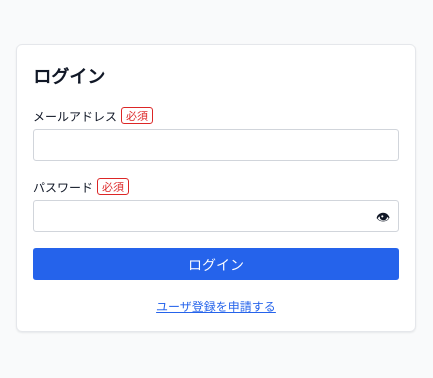
LoginPage › 認証失敗_401は統一メッセージを表示する
In the field labelled "メールアドレス 必須": {"x": 216, "y": 145} top-left (33, 129), bottom-right (399, 161), type "user@example.com"
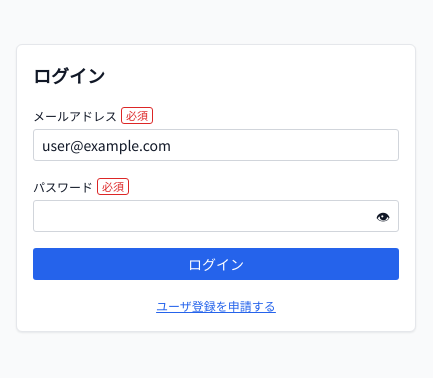
In the password field named "パスワード必須": {"x": 216, "y": 216} top-left (33, 200), bottom-right (399, 232), type "wrong-password"
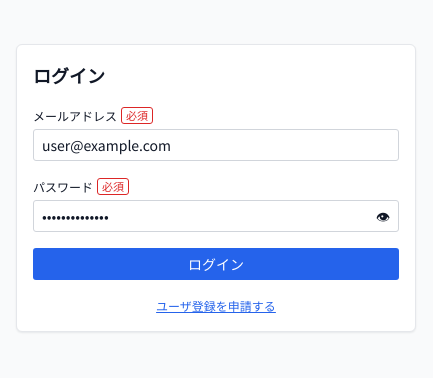
Click the button "ログイン": {"x": 216, "y": 264} top-left (33, 248), bottom-right (399, 280)
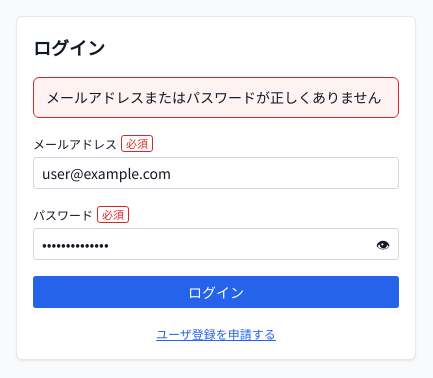
Now the text "メールアドレスまたはパスワードが正しくありません" is shown, box top-left (33, 77), bottom-right (399, 118)
